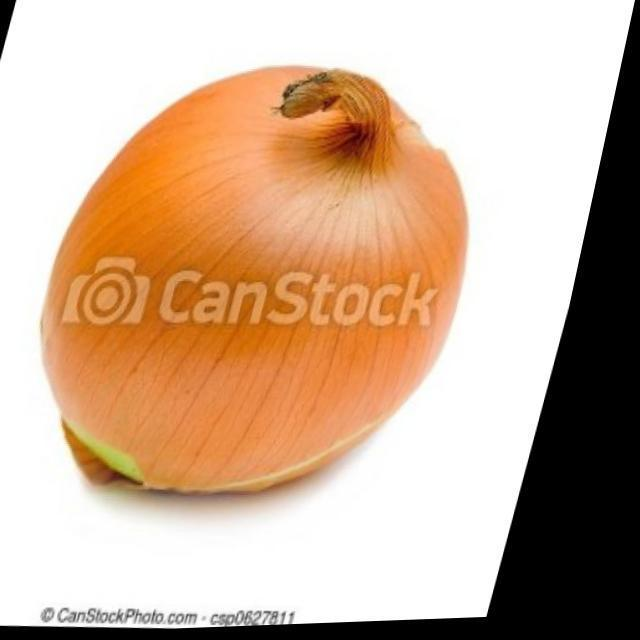Onion: (0, 34, 562, 552)
